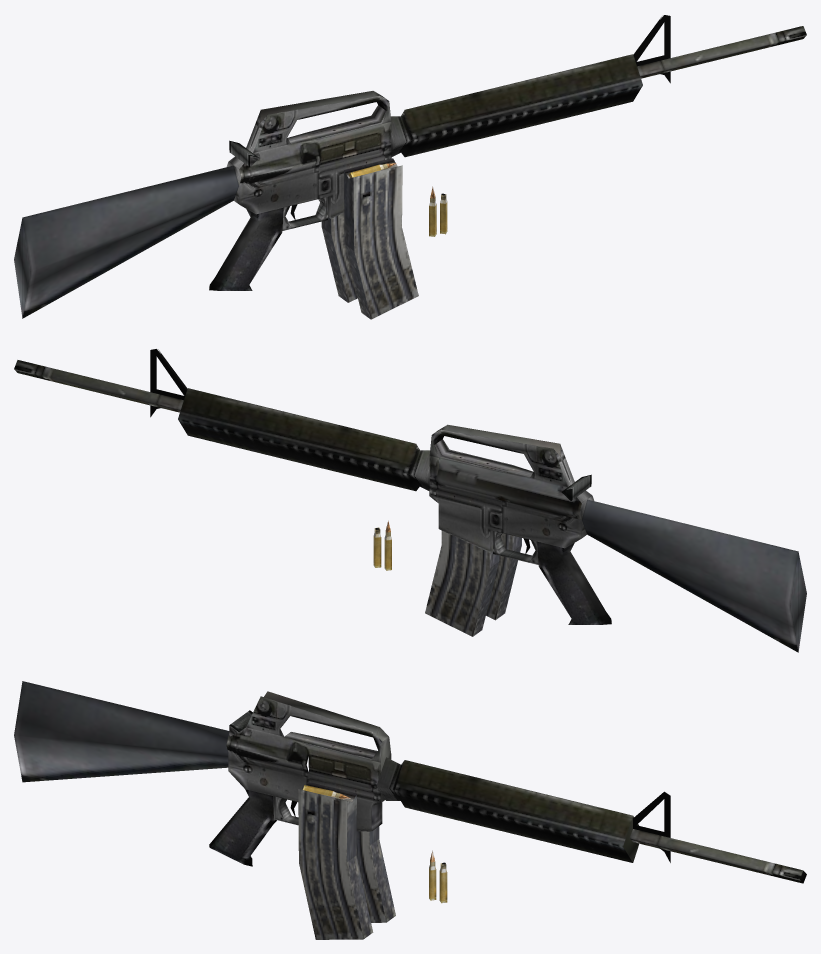
3 views of the same model, one above another, from view 1: azimuth 30°, elevation 25°; view 2: azimuth 150°, elevation 25°; view 3: azimuth 330°, elevation 25° (orthographic).
Visible parts, largest first — view 1: M16, M16_Mag_Full, M16_Mag; view 2: M16, M16_Mag, M16_Mag_Full; view 3: M16, M16_Mag_Full, M16_Mag.
Boxes of the visible parts, <box> form: M16: <box>14,15,806,318</box>; M16_Mag_Full: <box>344,158,418,319</box>; M16_Mag: <box>321,213,357,302</box>; M16: <box>14,349,806,652</box>; M16_Mag: <box>425,531,499,636</box>; M16_Mag_Full: <box>486,533,521,620</box>; M16: <box>14,681,806,883</box>; M16_Mag_Full: <box>298,782,373,939</box>; M16_Mag: <box>356,826,395,922</box>.
Bounding box in the file's own units: 4.39 × 1.11 × 0.3693.
Materials: 3 (3 with a texture image).
